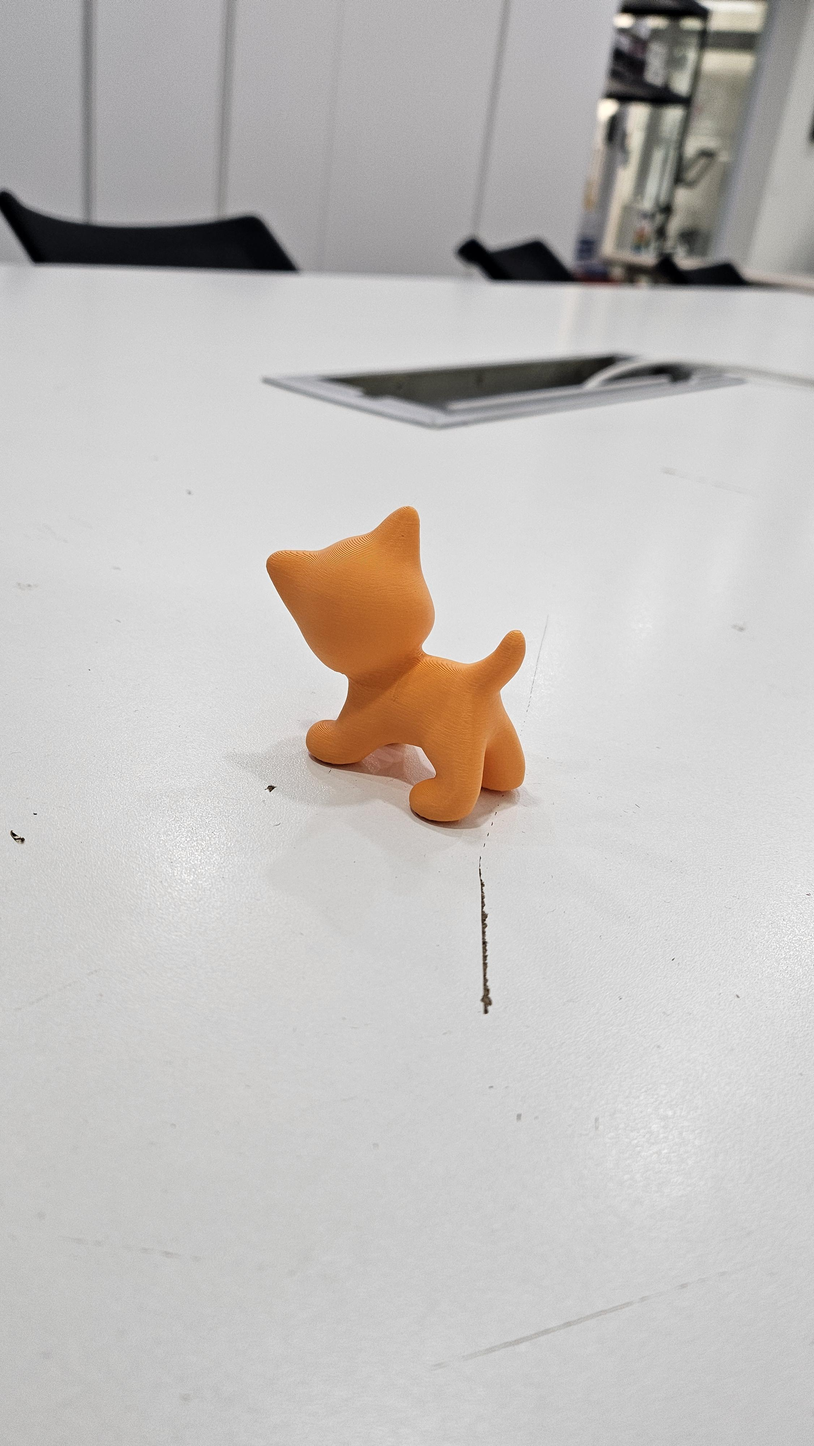cat: (258, 502, 534, 832)
